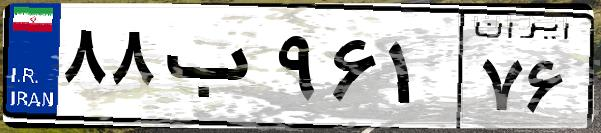1: (385, 28, 445, 110)
6: (330, 28, 385, 110), (525, 38, 570, 115)
7: (475, 38, 525, 113)
8: (57, 26, 110, 100), (110, 28, 158, 98)
9: (270, 28, 330, 110)
ب: (158, 20, 270, 120)
